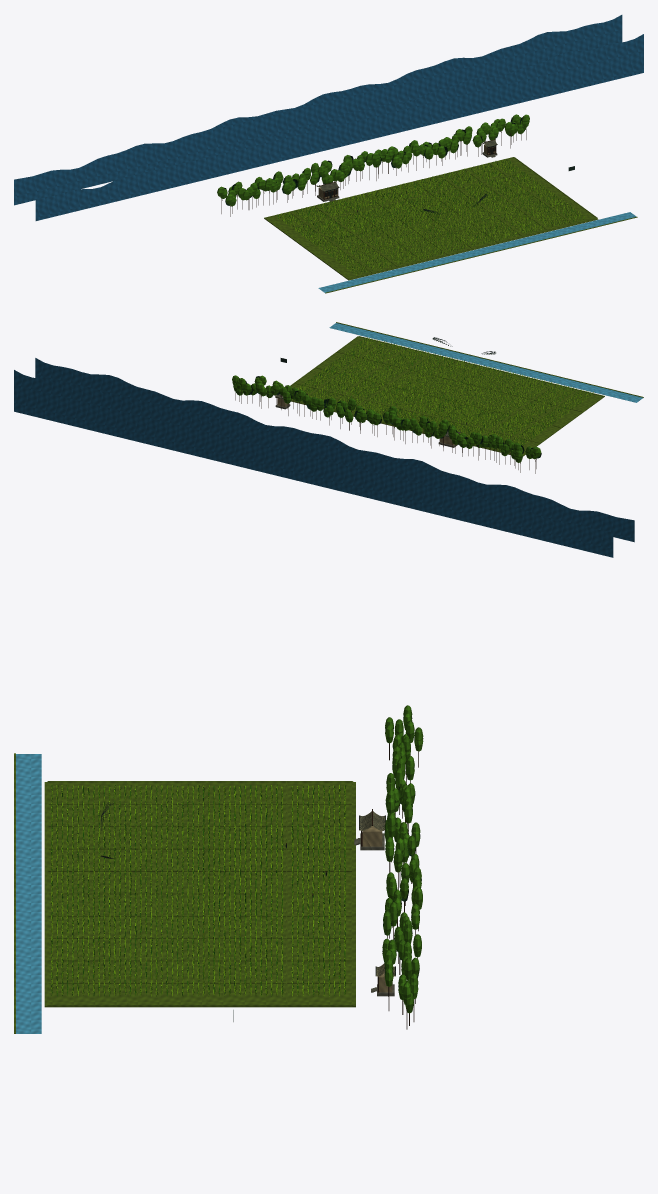
Rendered from JingXi_Aligned_Summer.glb.
The picture shows the model from 3 angles, top to bottom: view 1: azimuth 30°, elevation 25°; view 2: azimuth 150°, elevation 25°; view 3: azimuth 270°, elevation 25°; orthographic projection. The views are drawn at different scales.
Parts seen in each view (by area): view 1: Summer_MountainRidge_mountain, Summer_FieldEarth_earth, Summer_Rice_Blades_light, Summer_Rice_Blades_rice, Summer_TreeCrowns_crown, Summer_YuquanCanal_water, Summer_CrossBanks_earth, Summer_FieldBanks_earth, Summer_TreeTrunks_wood, Summer_NearBank_earth, Summer_TreeCrowns_leaf; view 2: Summer_MountainRidge_mountain, Summer_FieldEarth_earth, Summer_Rice_Blades_light, Summer_Rice_Blades_rice, Summer_TreeCrowns_crown, Summer_YuquanCanal_water, Summer_CrossBanks_earth, Summer_FieldBanks_earth, Summer_TreeTrunks_wood, Summer_NearBank_earth, Summer_TreeCrowns_leaf; view 3: Summer_FieldEarth_earth, Summer_Rice_Blades_light, Summer_Rice_Blades_rice, Summer_TreeCrowns_crown, Summer_YuquanCanal_water, Summer_FieldBanks_earth, Summer_CrossBanks_earth.
Part boxes in pixels (x1,y1,x2,y2): Summer_MountainRidge_mountain: (14, 15, 643, 220); Summer_FieldEarth_earth: (264, 157, 598, 280); Summer_Rice_Blades_light: (276, 159, 586, 275); Summer_Rice_Blades_rice: (276, 159, 584, 273); Summer_TreeCrowns_crown: (217, 114, 529, 206); Summer_YuquanCanal_water: (318, 212, 636, 292); Summer_CrossBanks_earth: (265, 157, 596, 278); Summer_FieldBanks_earth: (264, 157, 597, 278); Summer_TreeTrunks_wood: (221, 129, 526, 216); Summer_NearBank_earth: (325, 216, 637, 293); Summer_TreeCrowns_leaf: (224, 117, 524, 205); Summer_MountainRidge_mountain: (14, 358, 634, 557); Summer_FieldEarth_earth: (276, 336, 604, 456); Summer_Rice_Blades_light: (298, 337, 593, 444); Summer_Rice_Blades_rice: (300, 339, 591, 445); Summer_TreeCrowns_crown: (232, 375, 541, 462); Summer_YuquanCanal_water: (329, 323, 642, 402); Summer_CrossBanks_earth: (291, 336, 603, 453); Summer_FieldBanks_earth: (290, 336, 604, 455); Summer_TreeTrunks_wood: (235, 390, 536, 473); Summer_NearBank_earth: (336, 322, 643, 397); Summer_TreeCrowns_leaf: (235, 376, 541, 458); Summer_FieldEarth_earth: (44, 782, 355, 1007); Summer_Rice_Blades_light: (51, 784, 346, 996); Summer_Rice_Blades_rice: (51, 784, 345, 996); Summer_TreeCrowns_crown: (382, 705, 423, 1013); Summer_YuquanCanal_water: (16, 754, 41, 1033); Summer_FieldBanks_earth: (48, 781, 352, 1006); Summer_CrossBanks_earth: (47, 781, 353, 1005).
Bounding box in the file's own units: 195 × 13.26 × 95.15.
Materials: 15 (15 with a texture image).
